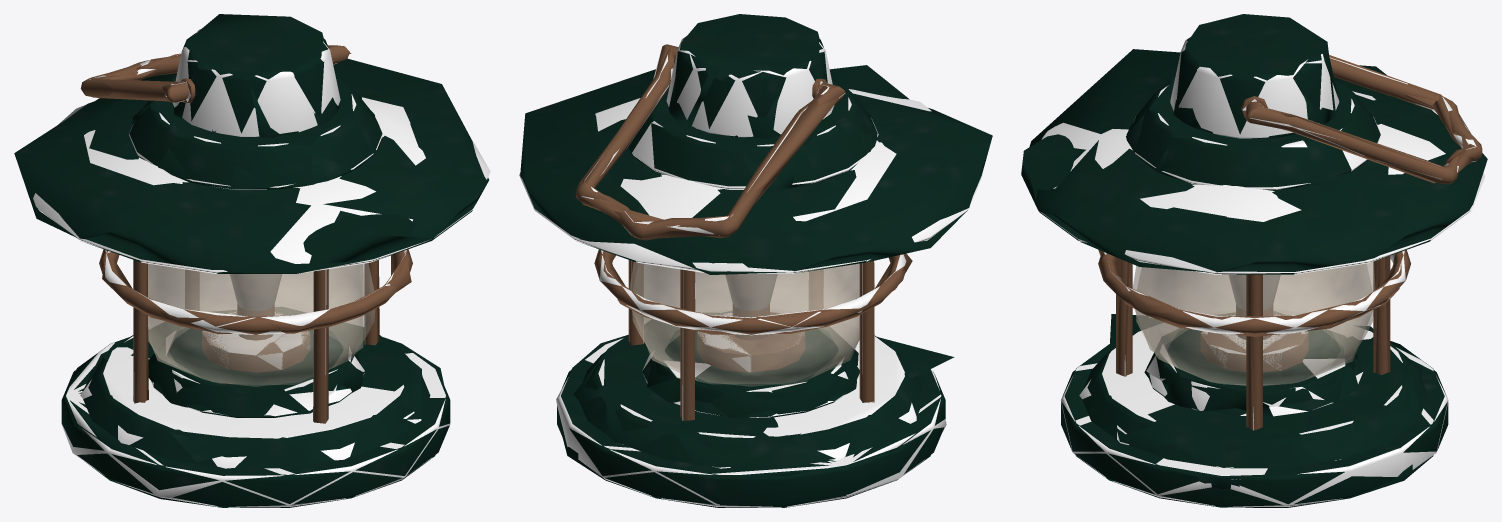
Rendered from objects_un_lantern02.gltf.
The picture shows the model from 3 angles, left to right: view 1: azimuth 30°, elevation 25°; view 2: azimuth 150°, elevation 25°; view 3: azimuth 270°, elevation 25°; orthographic projection.
Parts seen in each view (by area): view 1: um_objects_un_lantern02_model_lod0Shape:objects_un_lantern02 (×4), um_objects_un_lantern02_model_lod2Shape:objects_un_lantern02, um_objects_un_lantern02_model_lod1Shape:objects_un_lantern02; view 2: um_objects_un_lantern02_model_lod0Shape:objects_un_lantern02 (×4), um_objects_un_lantern02_model_lod2Shape:objects_un_lantern02, um_objects_un_lantern02_model_lod1Shape:objects_un_lantern02; view 3: um_objects_un_lantern02_model_lod0Shape:objects_un_lantern02 (×4), um_objects_un_lantern02_model_lod2Shape:objects_un_lantern02, um_objects_un_lantern02_model_lod1Shape:objects_un_lantern02.
Part boxes in pixels (<box>): um_objects_un_lantern02_model_lod0Shape:objects_un_lantern02 (×4): <box>33,29,490,507</box>; um_objects_un_lantern02_model_lod2Shape:objects_un_lantern02: <box>14,14,488,507</box>; um_objects_un_lantern02_model_lod1Shape:objects_un_lantern02: <box>148,264,363,384</box>; um_objects_un_lantern02_model_lod0Shape:objects_un_lantern02 (×4): <box>519,36,982,507</box>; um_objects_un_lantern02_model_lod2Shape:objects_un_lantern02: <box>520,14,992,507</box>; um_objects_un_lantern02_model_lod1Shape:objects_un_lantern02: <box>629,262,875,384</box>; um_objects_un_lantern02_model_lod0Shape:objects_un_lantern02 (×4): <box>1038,37,1484,507</box>; um_objects_un_lantern02_model_lod2Shape:objects_un_lantern02: <box>1021,14,1487,507</box>; um_objects_un_lantern02_model_lod1Shape:objects_un_lantern02: <box>1133,262,1375,385</box>.
Bounding box in the file's own units: 0.2921 × 0.267 × 0.2916.
4 materials, 3 textured.
